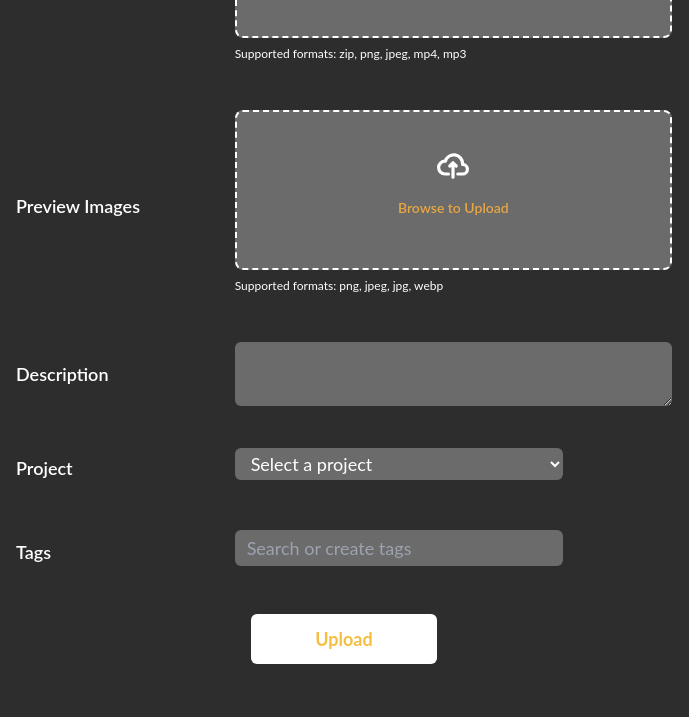
it: upload Asset Component Rendering › handles tag addition from search with sanitization
(page scrolled)
# Search for a tag with invalid characters
Type "New Tag 123!" into the field with id "tag-search". click: (399, 548)
box: [235,530,563,566]
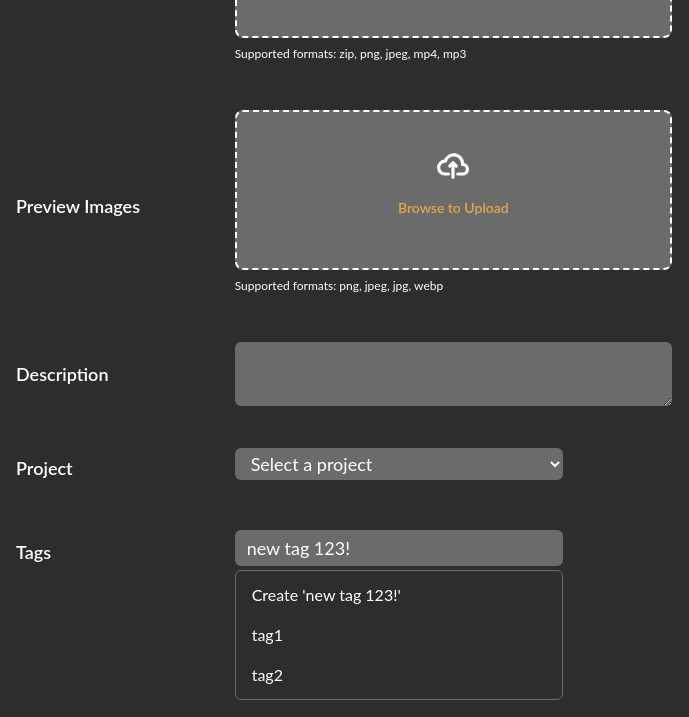
# Try with valid tag
Replace the text in the field with id "tag-search" with "newtag". click: (399, 548)
box: [235,530,563,566]
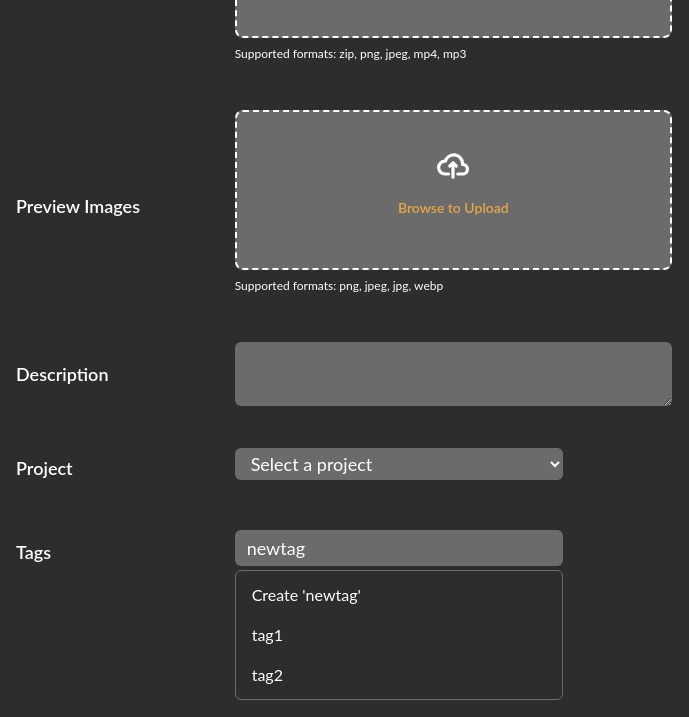
Expected: the list item with class "tag-suggestion" showing "Create 'newtag'" is shown
Click the list item with class "tag-suggestion" showing "Create 'newtag'". click: (306, 594)
box: [252,585,361,604]
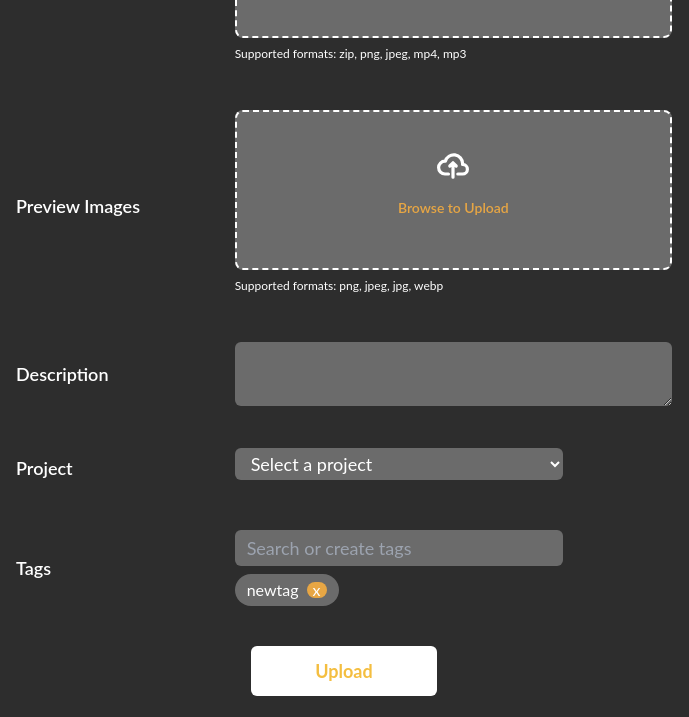
Expected: the element with class "tag-item" shows "newtag", [247,580,299,599]
